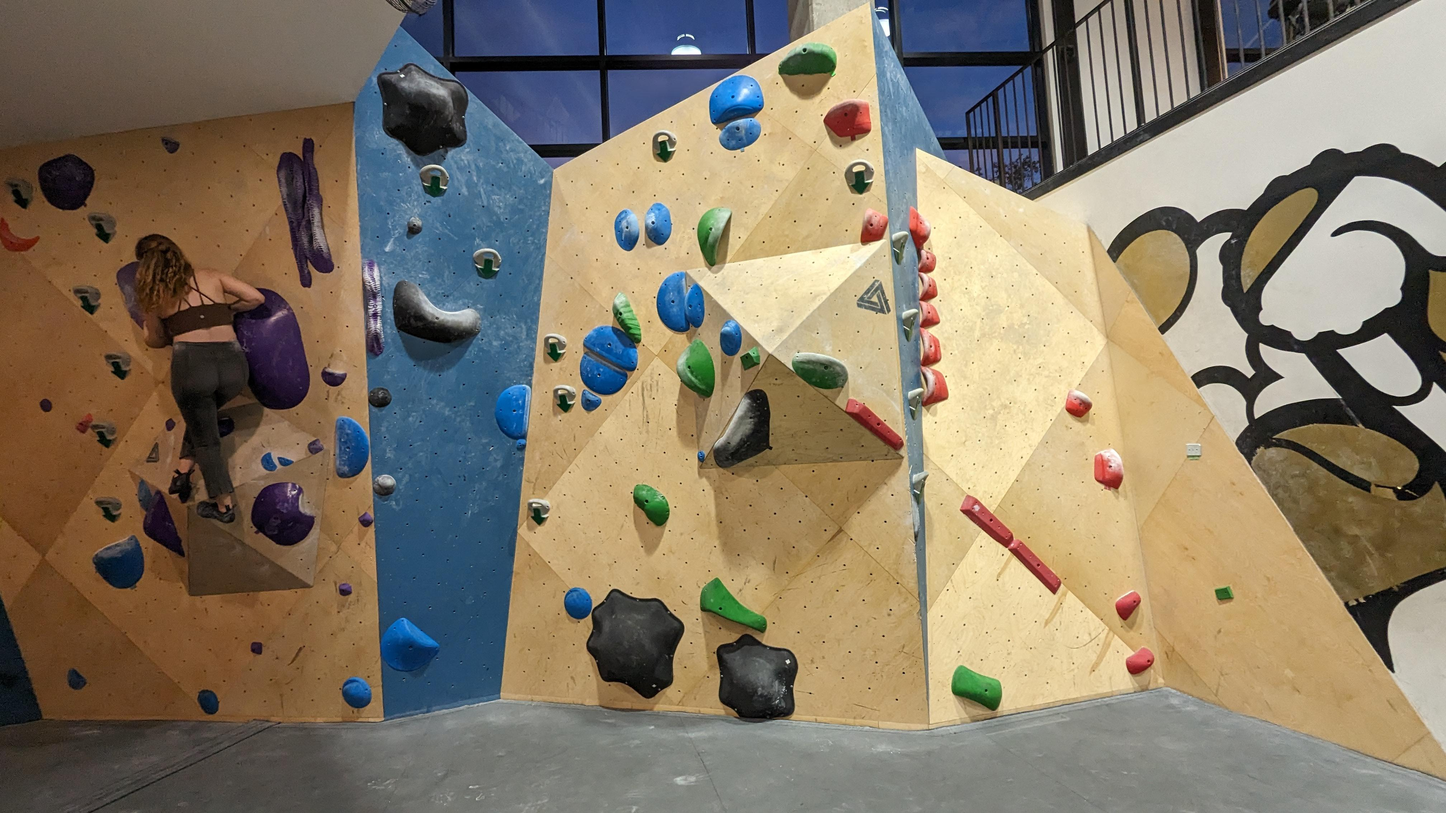black-hold: (576, 584, 691, 704), (226, 280, 317, 417), (372, 54, 477, 163), (702, 382, 794, 485), (379, 276, 488, 361), (713, 632, 800, 720), (282, 136, 336, 277), (241, 473, 322, 557), (691, 574, 772, 650), (274, 150, 316, 291), (32, 147, 105, 219), (370, 613, 443, 685), (130, 488, 189, 568), (667, 337, 734, 404), (88, 533, 154, 597), (841, 394, 907, 456), (580, 316, 649, 375), (955, 491, 1018, 553), (700, 69, 768, 126), (1006, 536, 1066, 596), (570, 350, 631, 403), (687, 200, 734, 267), (787, 347, 852, 394), (946, 663, 1008, 712), (626, 475, 679, 530), (360, 258, 386, 358), (114, 260, 148, 334), (605, 290, 648, 348), (820, 96, 874, 141), (654, 270, 691, 334), (492, 382, 532, 441), (334, 416, 371, 479), (714, 113, 766, 155), (777, 42, 838, 76), (838, 152, 882, 196), (81, 203, 124, 246), (0, 216, 41, 261), (0, 169, 41, 212), (414, 157, 455, 199), (99, 342, 140, 383), (69, 277, 109, 316), (90, 487, 130, 526), (644, 124, 684, 163), (854, 207, 891, 249), (916, 363, 950, 408), (85, 412, 124, 451), (468, 241, 507, 280), (611, 207, 643, 254), (905, 202, 935, 251), (1121, 643, 1159, 680), (643, 201, 673, 247), (536, 326, 573, 363), (1059, 386, 1096, 422), (546, 378, 582, 414), (520, 491, 556, 527), (1094, 448, 1124, 490), (1110, 586, 1144, 622), (682, 282, 706, 329), (341, 676, 372, 709), (563, 587, 593, 620), (904, 468, 930, 506), (885, 228, 910, 266), (919, 326, 942, 367), (131, 478, 157, 514), (901, 384, 925, 421), (369, 471, 399, 499), (720, 319, 742, 356), (575, 388, 604, 416), (61, 666, 89, 694), (318, 365, 348, 390), (917, 298, 941, 329), (737, 345, 765, 371), (911, 492, 923, 543), (918, 271, 938, 301), (74, 410, 97, 436), (215, 412, 237, 439), (902, 308, 919, 342), (197, 689, 219, 715), (157, 135, 182, 157), (257, 451, 279, 475), (917, 249, 938, 274), (368, 387, 392, 408), (305, 437, 326, 457), (356, 510, 376, 530), (405, 215, 424, 236), (37, 396, 56, 415), (1214, 585, 1234, 601), (275, 455, 295, 470), (162, 416, 179, 433), (338, 582, 353, 597), (1186, 443, 1202, 456), (250, 641, 263, 655), (515, 438, 527, 451), (696, 449, 706, 463)
